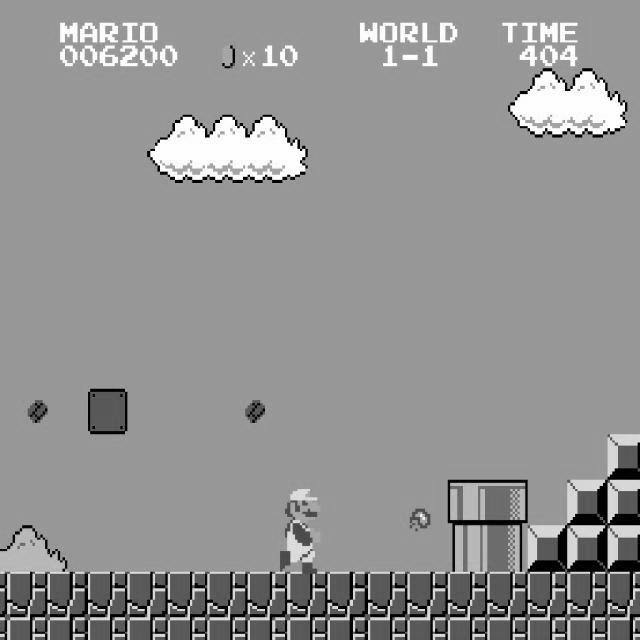14- pipe: (447, 526, 488, 572), (487, 526, 528, 572)
15- pipe_head: (447, 480, 488, 526), (487, 480, 528, 526)
17- undestructible_block: (7, 572, 48, 618), (47, 572, 88, 618), (87, 572, 128, 618), (127, 572, 168, 618), (167, 572, 208, 618), (207, 572, 248, 618), (247, 572, 288, 618), (287, 572, 328, 618), (327, 572, 368, 618), (367, 572, 408, 618), (407, 572, 448, 618), (447, 572, 488, 618), (487, 572, 528, 618), (527, 572, 568, 618), (567, 572, 608, 618), (607, 571, 640, 617), (7, 617, 48, 640), (47, 617, 88, 640), (87, 617, 128, 640), (127, 617, 168, 640), (167, 617, 208, 640), (207, 617, 248, 640), (247, 617, 288, 640), (287, 617, 328, 640), (327, 617, 368, 640), (367, 617, 408, 640), (407, 617, 448, 640), (447, 617, 488, 640), (487, 617, 528, 640), (527, 617, 568, 640), (567, 617, 608, 640), (607, 617, 640, 639), (0, 572, 7, 618), (0, 617, 7, 640)
3- empty_block: (87, 388, 128, 434)
4- fire_mario: (277, 480, 320, 574)
5- fireball: (410, 506, 430, 532)
9- hard_block: (527, 526, 568, 572), (567, 480, 608, 526), (567, 526, 608, 572), (607, 525, 640, 571), (607, 434, 640, 479), (607, 480, 640, 525)
